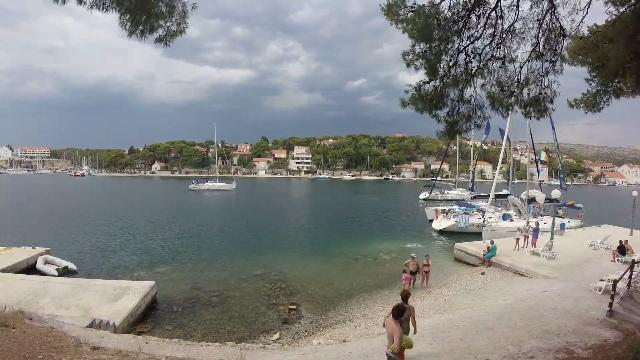Sailboat: (183, 174, 241, 194)
